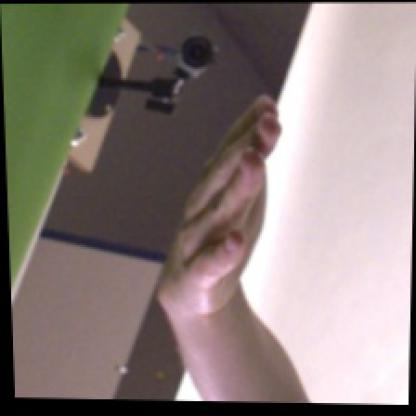Hand: (156, 95, 284, 312)
